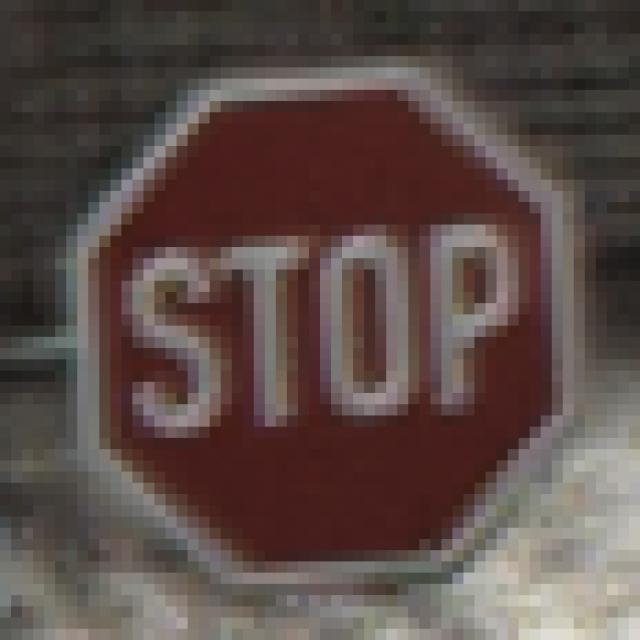STOP: (67, 57, 586, 585)
